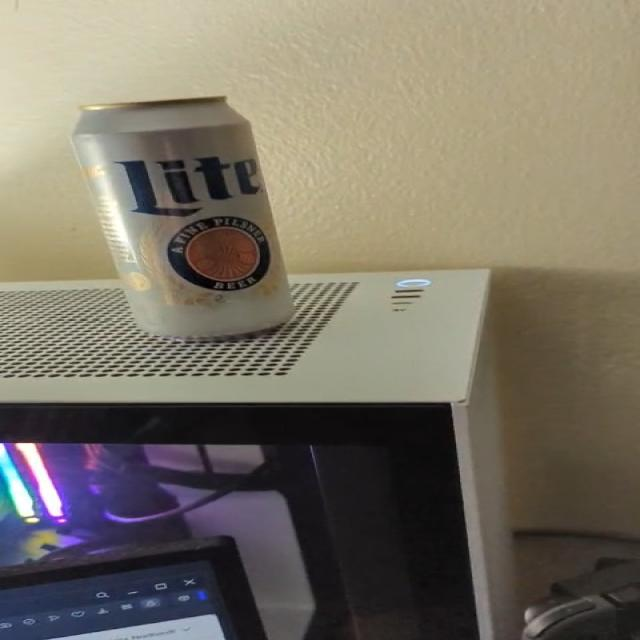metal: (73, 98, 294, 339)
